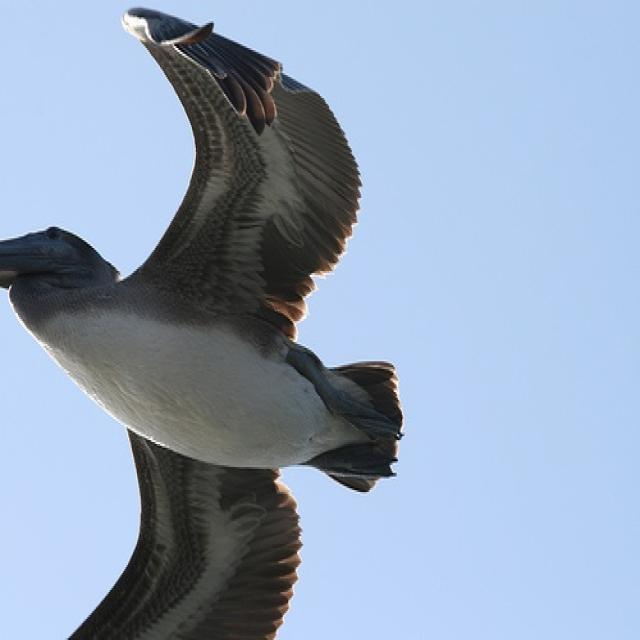bird: (0, 8, 403, 638)
